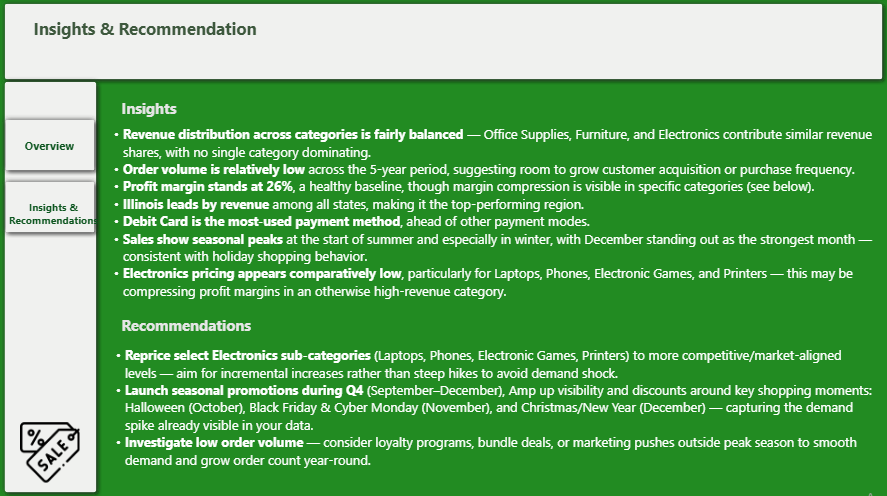

The page's visual inventory and layout, read from the dashboard file:
{"tool":"powerbi","page":{"name":"Insights & recommendation","canvas":[1280,720],"ordinal":1},"visuals":[{"type":"shape","box":[0,0,1280.2,720],"z":0},{"type":"shape","box":[0,0,1280.2,125.3],"z":1000},{"type":"shape","box":[0,112.3,148.3,607.7],"z":2000},{"type":"textbox","box":[44.9,21.7,500,59.4],"z":3000},{"type":"shape","box":[1.4,256.3,144,89.3],"z":4000},{"type":"shape","box":[1.4,167,144,89.3],"z":5000},{"type":"image","box":[30.2,604.8,86.4,99.4],"z":6000},{"type":"textbox","box":[145.4,178.6,1118.9,301],"z":6001},{"type":"textbox","box":[171.4,139.7,301,54.7],"z":6002},{"type":"textbox","box":[171.4,452.2,301,54.7],"z":6003},{"type":"textbox","box":[148.3,496.8,1118.9,207.4],"z":6004},{"type":"textbox","box":[0,285.1,157,60.5],"z":6005},{"type":"actionButton","box":[23,191.5,99.4,40.3],"z":6006}]}

Visuals, with their boxes in screenshot pixels (x1, y1, x2, y2), scaled from the page's 1280x720 canvas onto the 887x496 screenshot:
shape: crop(0, 0, 886, 495)
shape: crop(0, 0, 886, 86)
shape: crop(0, 77, 103, 495)
textbox: crop(31, 15, 378, 56)
shape: crop(1, 177, 101, 238)
shape: crop(1, 115, 101, 177)
image: crop(21, 417, 81, 485)
textbox: crop(101, 123, 876, 330)
textbox: crop(119, 96, 327, 134)
textbox: crop(119, 312, 327, 349)
textbox: crop(103, 342, 878, 485)
textbox: crop(0, 196, 109, 238)
actionButton: crop(16, 132, 85, 160)
